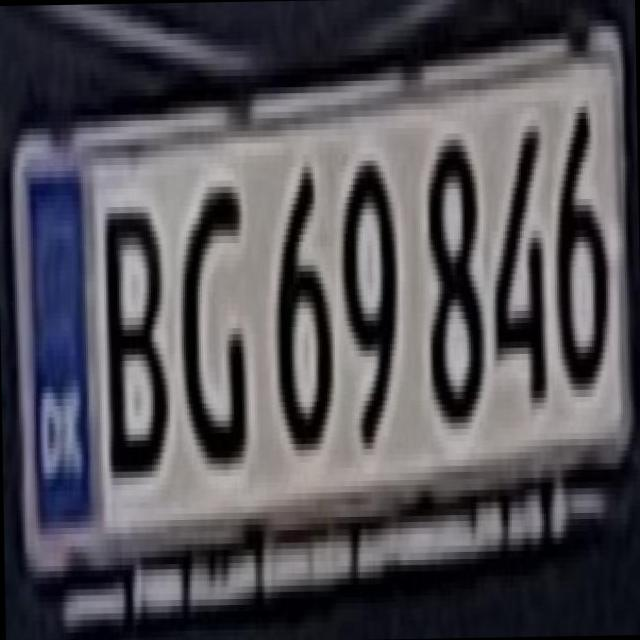4: (484, 100, 554, 404)
5: (451, 320, 640, 637)
6: (260, 142, 340, 450), (538, 81, 618, 384)
8: (410, 114, 492, 423)
9: (328, 140, 406, 449)
B: (91, 181, 173, 478)
C: (172, 168, 258, 464)
